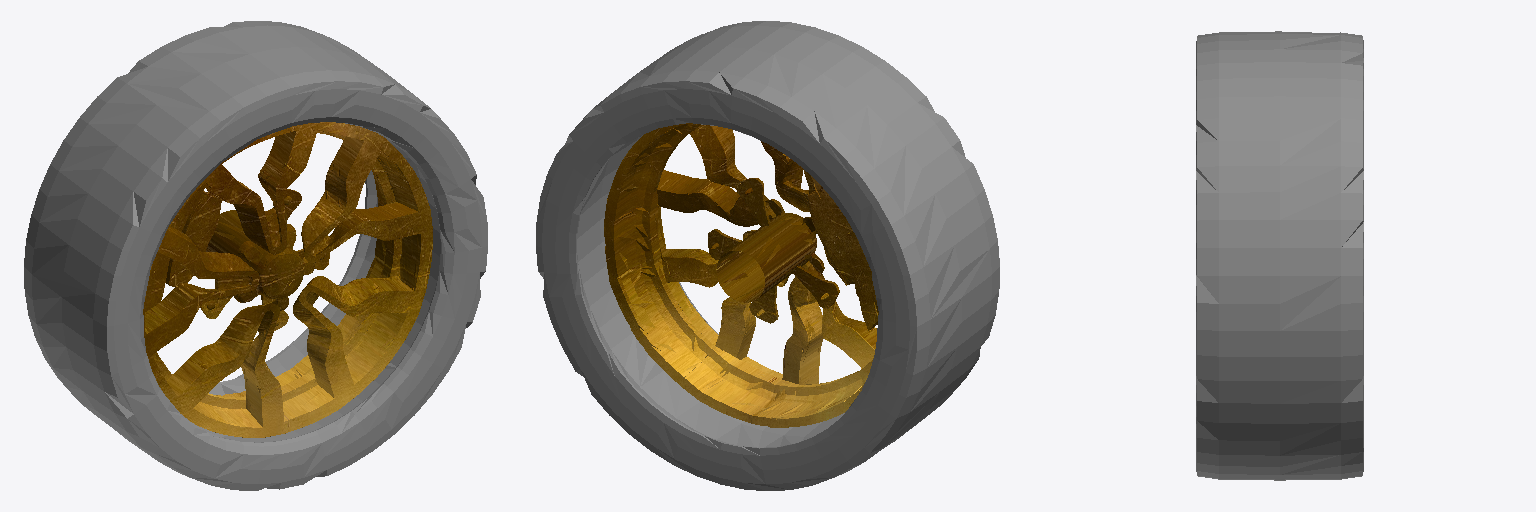
The picture shows the model from 3 angles: view 1: azimuth 30°, elevation 25°; view 2: azimuth 150°, elevation 25°; view 3: azimuth 270°, elevation 25°; orthographic projection.
Parts seen in each view (by area): view 1: Object046, Object045; view 2: Object046, Object045; view 3: Object046.
Part boxes in pixels (x1,y1,x2,y2): Object046: (24, 21, 487, 490); Object045: (143, 122, 432, 437); Object046: (536, 21, 999, 490); Object045: (604, 123, 878, 427); Object046: (1196, 31, 1363, 480).
Bounding box in the file's own units: 4.14 × 4.14 × 1.56.
2 materials, 1 textured.